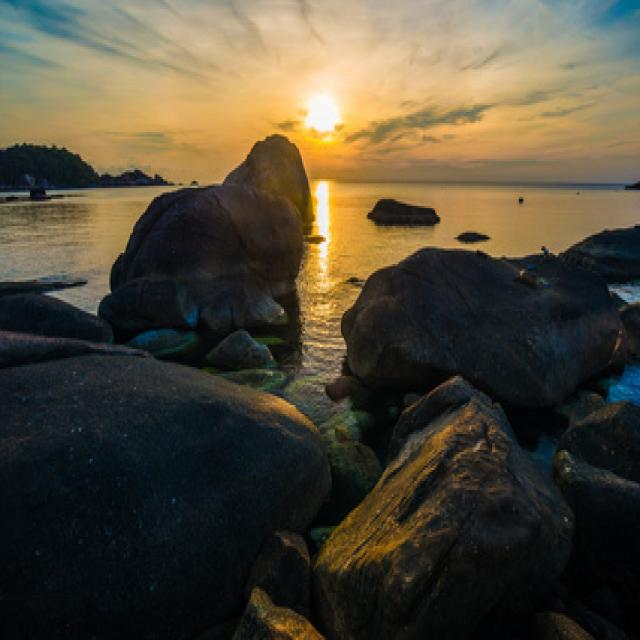reef: (107, 171, 434, 375)
